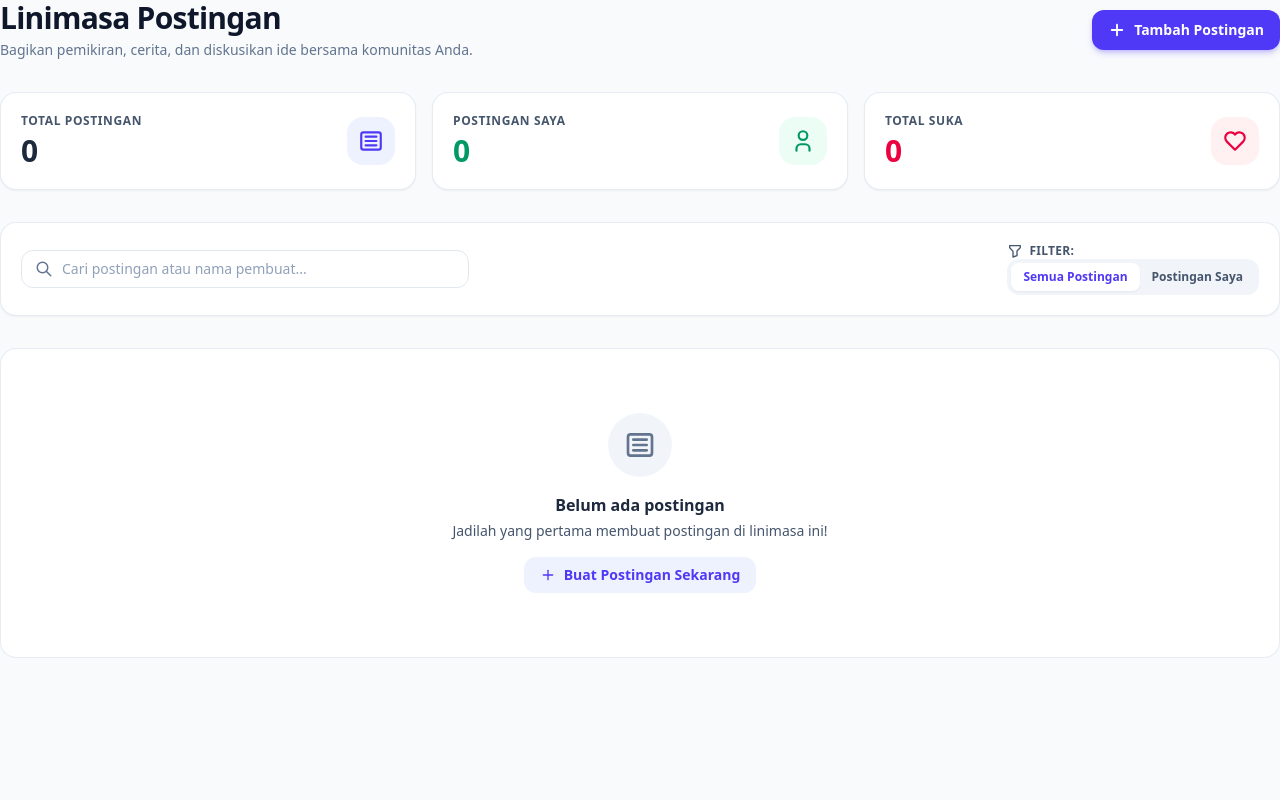
it: HomePage › should render posts stats, and empty state when empty
The image size is (1280, 800).
Expected: the heading "Belum ada postingan" is shown, [555, 494, 725, 516]
Click the button with test id "empty-add-post-btn" at (640, 575), box [524, 557, 756, 593]
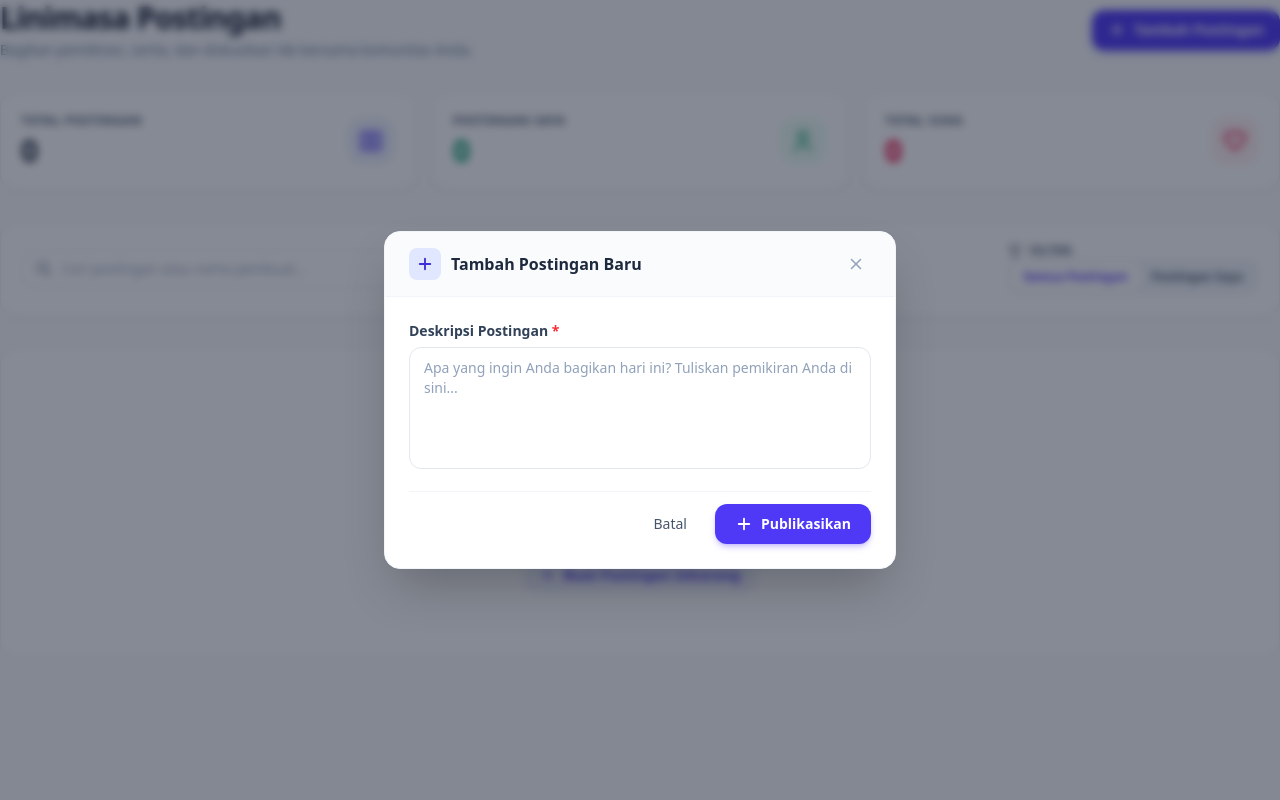
Expected: the dialog with test id "add-post-modal" is shown
Click the button with test id "close-add-modal-btn" at (856, 264), box [841, 249, 871, 279]
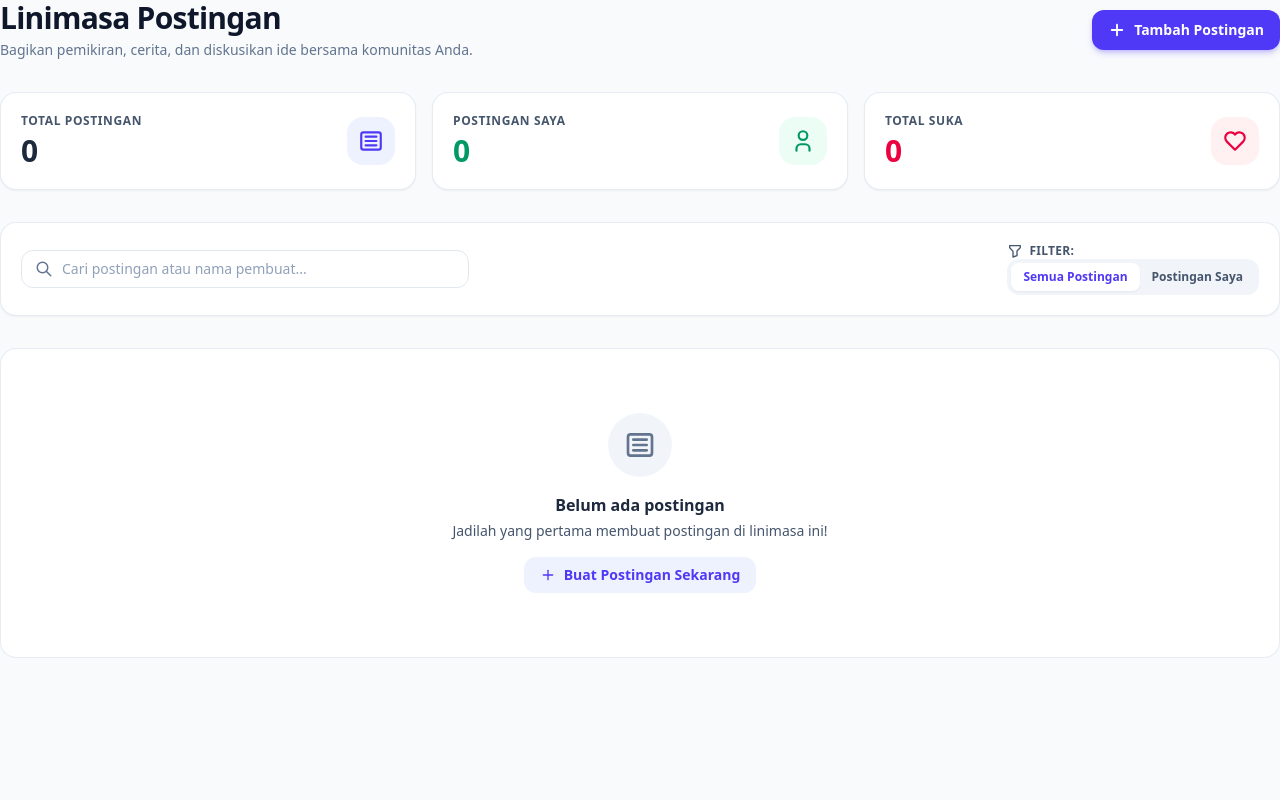
Expected: the dialog with test id "add-post-modal" is gone
